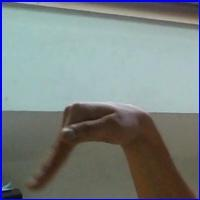A: (21, 95, 159, 190)
